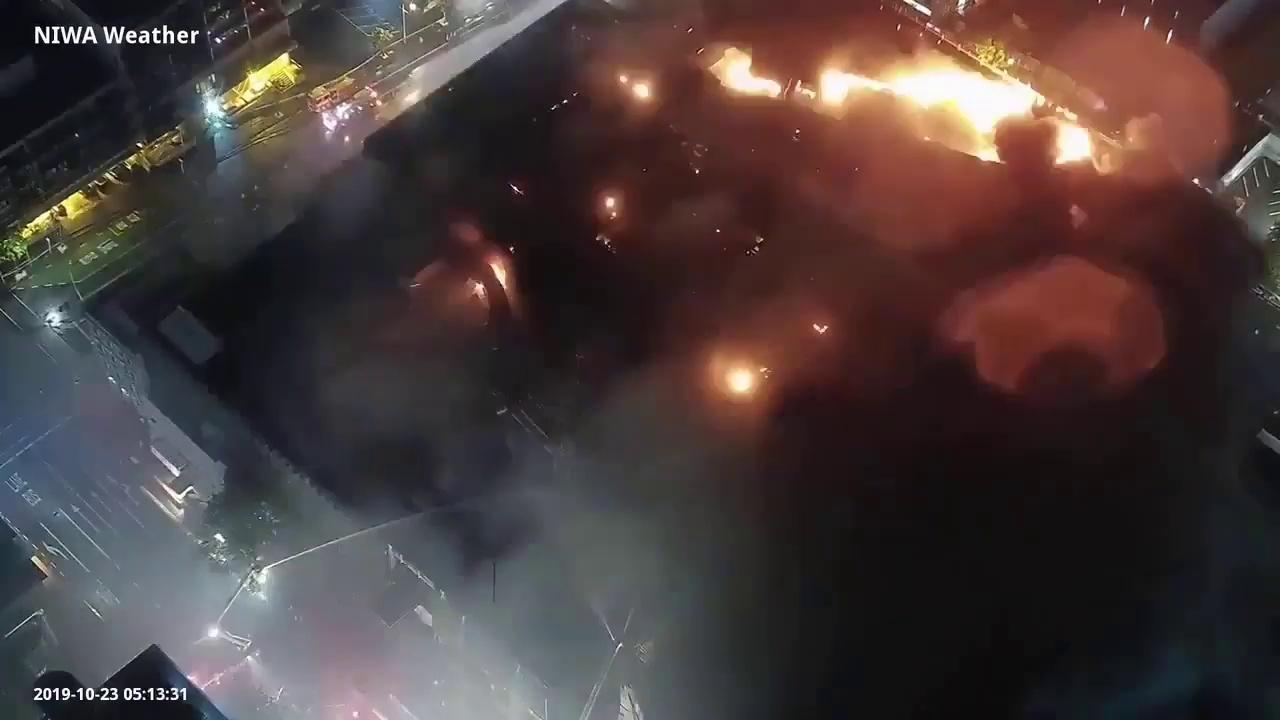Fire: (798, 54, 1037, 144), (722, 54, 783, 101), (1052, 116, 1096, 168), (721, 365, 756, 394), (618, 68, 649, 98), (488, 257, 512, 293), (603, 191, 622, 222), (472, 279, 489, 297), (812, 320, 829, 335)
